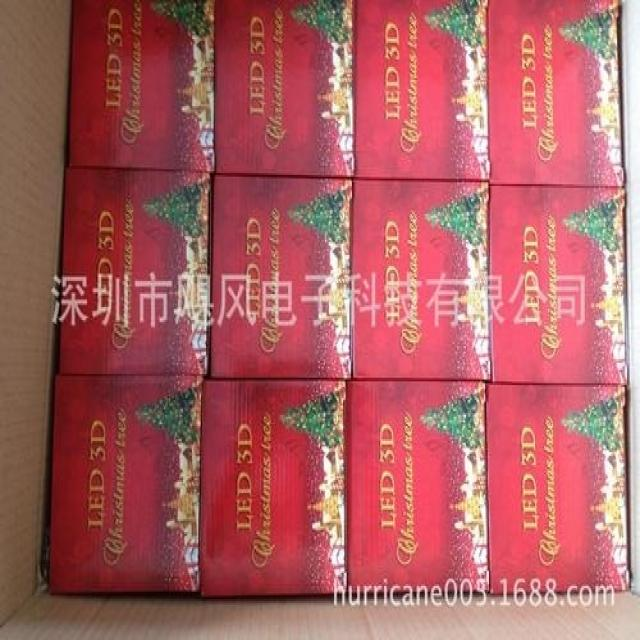box: (46, 378, 202, 592), (200, 378, 348, 601), (59, 166, 214, 378), (484, 383, 628, 595), (348, 381, 489, 595), (207, 175, 353, 381), (352, 175, 490, 383), (489, 186, 627, 383), (488, 0, 627, 186), (68, 2, 215, 173), (214, 2, 357, 175), (352, 2, 489, 182)
